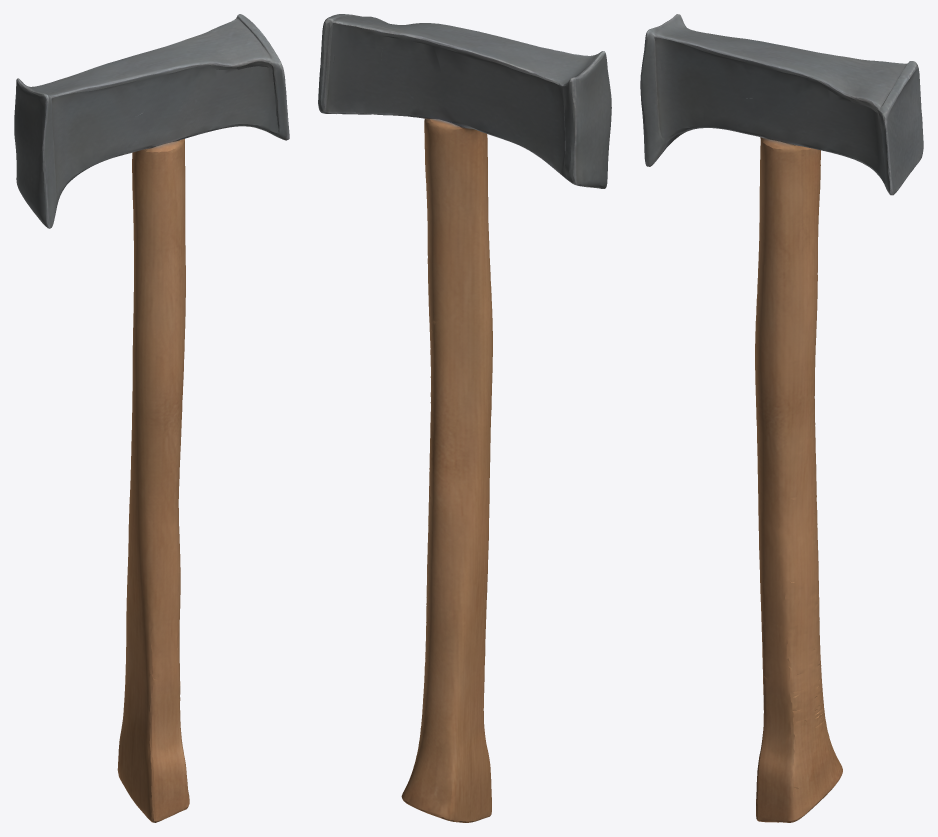
File: copper_axe.glb
The picture shows the model from 3 angles, left to right: view 1: azimuth 30°, elevation 25°; view 2: azimuth 150°, elevation 25°; view 3: azimuth 330°, elevation 25°; orthographic projection. The views are drawn at different scales.
Parts seen in each view (by area): view 1: Copper Axe Native Mesh; view 2: Copper Axe Native Mesh; view 3: Copper Axe Native Mesh.
Boxes of the visible parts, box(x1,y1,x2,y2) form: Copper Axe Native Mesh: box(14, 14, 289, 822); Copper Axe Native Mesh: box(318, 14, 611, 822); Copper Axe Native Mesh: box(640, 14, 923, 822).
Size of the model in its own units: 0.2489 by 0.72 by 0.0778.
2 materials, 2 textured.
